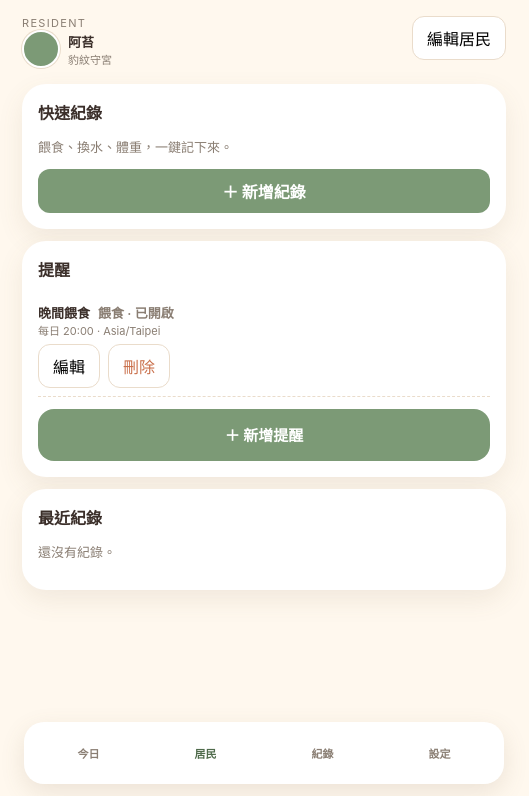
Scenario: AnimalDetailPage › shows the current revision when a delete conflicts
Click the button "刪除" at (139, 366), box [108,344,170,388]
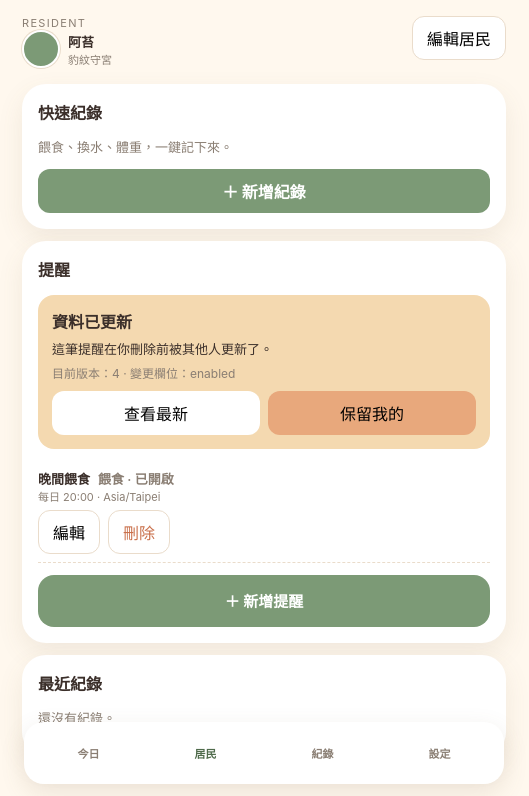
Check: the text "資料已更新" is shown, box [52,312,132,332]
Check: the text "目前版本：4 · 變更欄位：enabled" is shown, box [52,366,235,380]
